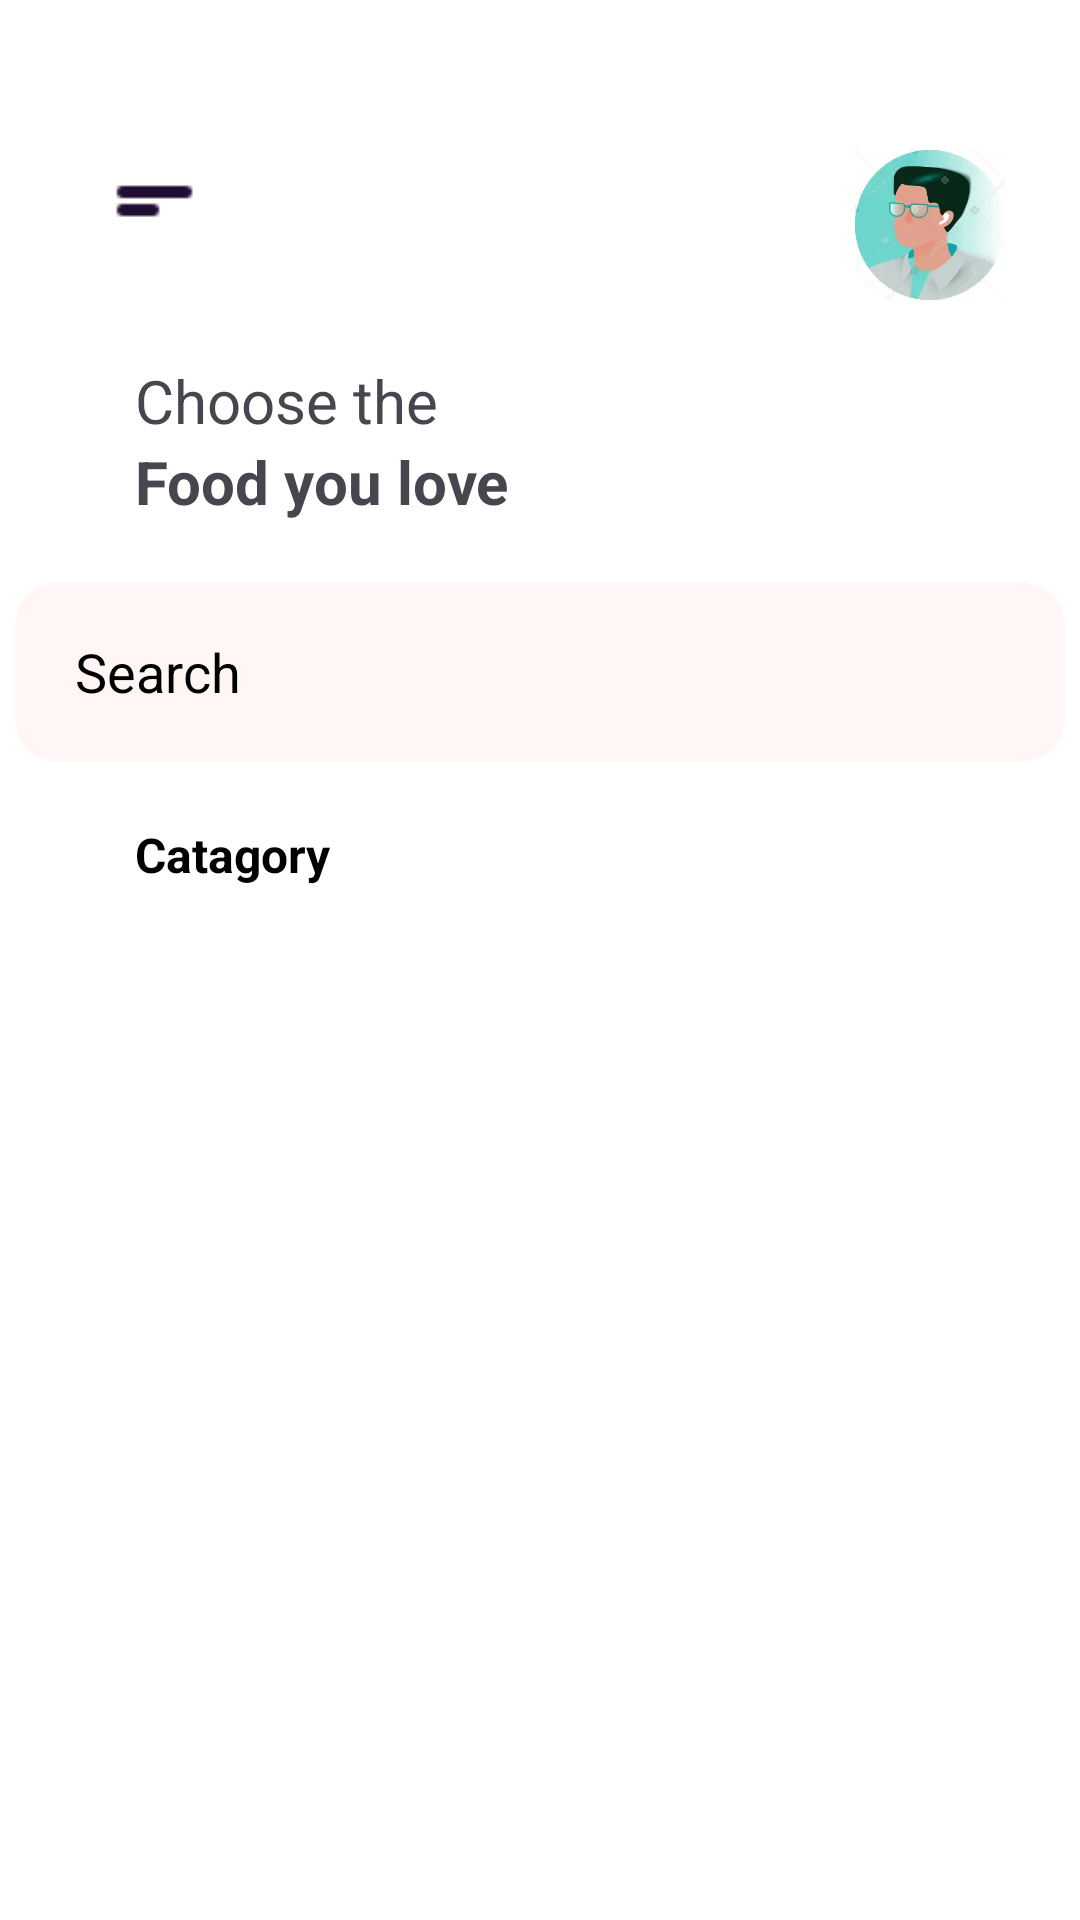

Where icons sit on this 1080 × 1920 app screen, as (x1, y1, x2, y2):
avater: (855, 150, 996, 300)
